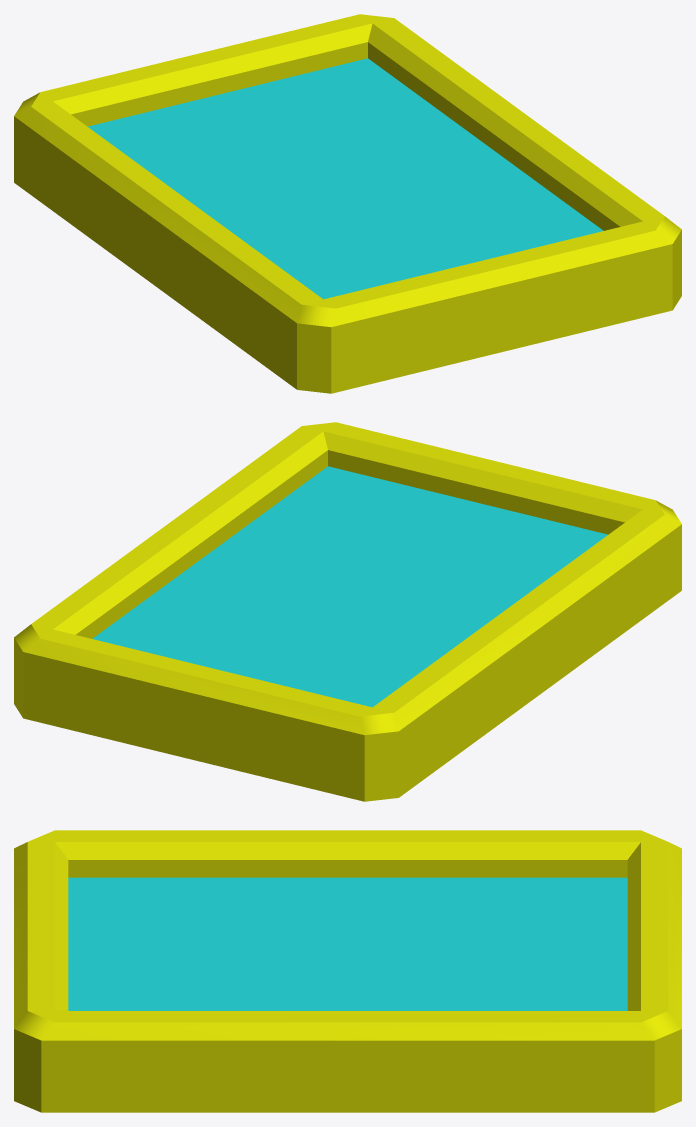
The model's file is Frame.fbx.
3 views of the same model, one above another, from view 1: azimuth 30°, elevation 25°; view 2: azimuth 150°, elevation 25°; view 3: azimuth 270°, elevation 25° (orthographic). The views are drawn at different scales.
Visible parts, largest first — view 1: pCube1; view 2: pCube1; view 3: pCube1.
Part boxes in pixels (x1,y1,x2,y2): pCube1: [14, 14, 681, 393]; pCube1: [14, 422, 681, 801]; pCube1: [14, 830, 681, 1112].
Size of the model in its own units: 5.17 by 1 by 7.17.
